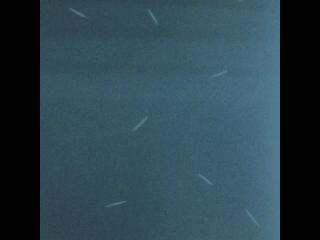scratch: (129, 111, 150, 133), (66, 3, 90, 22), (191, 171, 213, 187), (245, 209, 262, 229), (146, 7, 161, 29), (207, 67, 229, 79), (103, 199, 128, 208)
